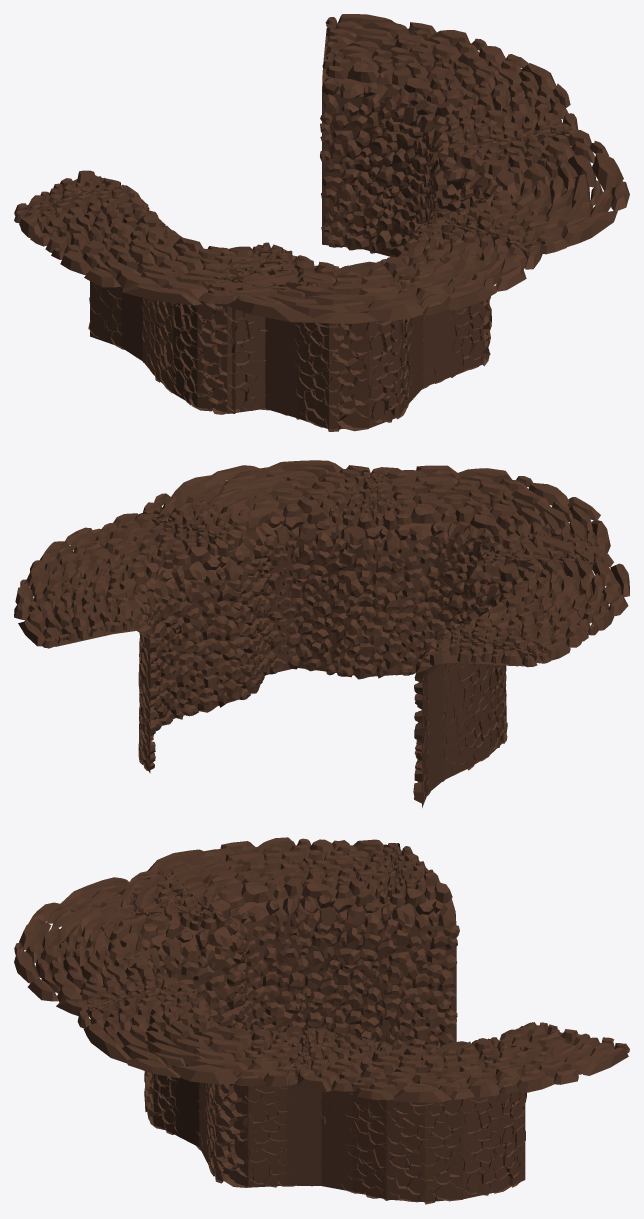
Rendered from TIMapa.fbx.
3 views of the same model, one above another, from view 1: azimuth 30°, elevation 25°; view 2: azimuth 150°, elevation 25°; view 3: azimuth 270°, elevation 25° (orthographic). The views are drawn at different scales.
Parts seen in each view (by area): view 1: Cube.002; view 2: Cube.002; view 3: Cube.002.
Part boxes in pixels (x1,y1,x2,y2): Cube.002: [14, 14, 629, 431]; Cube.002: [14, 460, 629, 807]; Cube.002: [14, 837, 629, 1204].
Size of the model in its own units: 3710 by 1137 by 3765.
